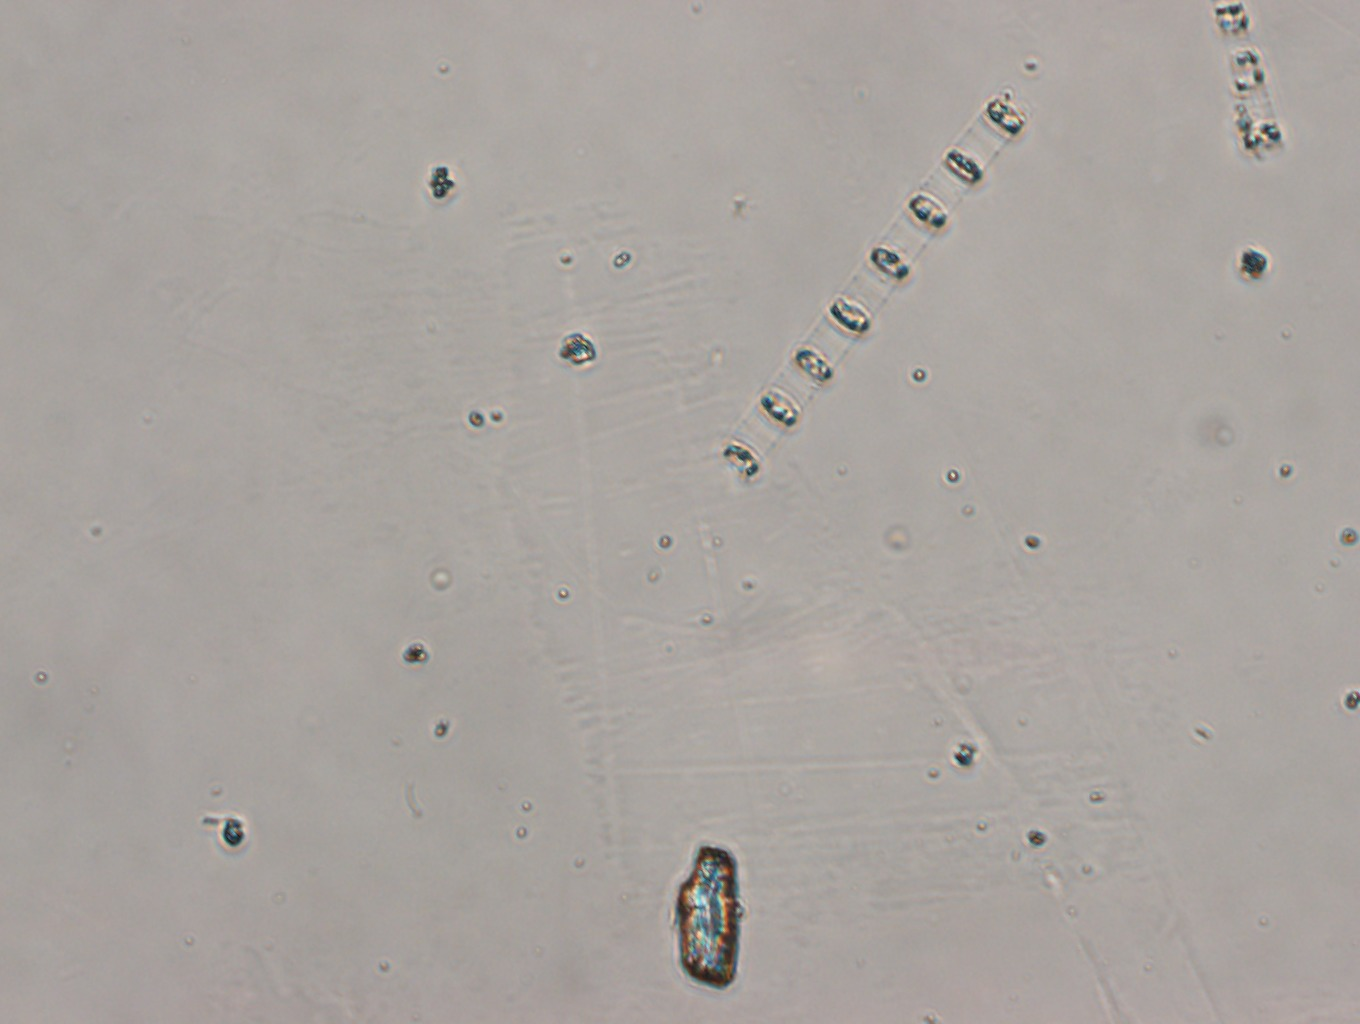skeletonema: (714, 89, 1033, 486), (1207, 1, 1293, 161)
